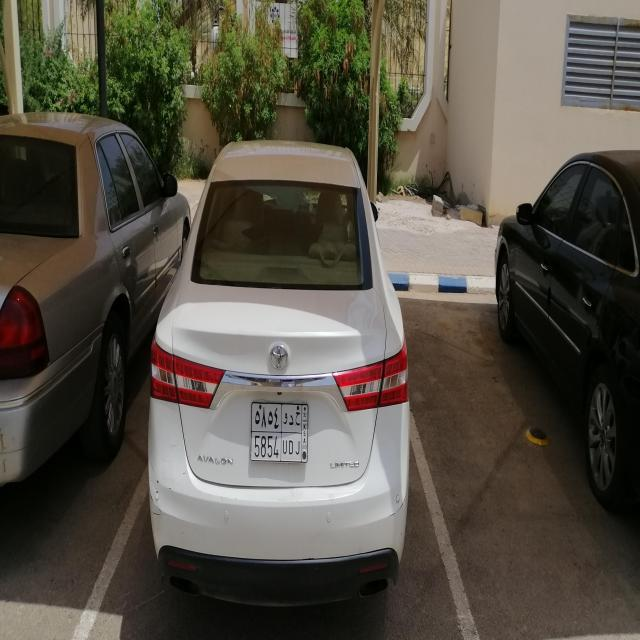license_plate: (250, 399, 309, 466)
